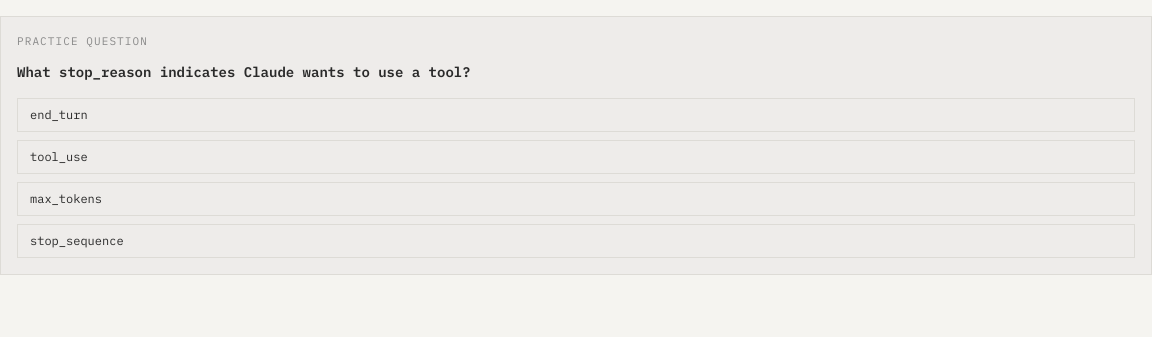
Test: InlinePracticeQ › reveals explanation after selecting correct answer
This screenshot has width=1152, height=337.
Click the button "tool_use" at x=59, y=156, box [17,140,1135,174]
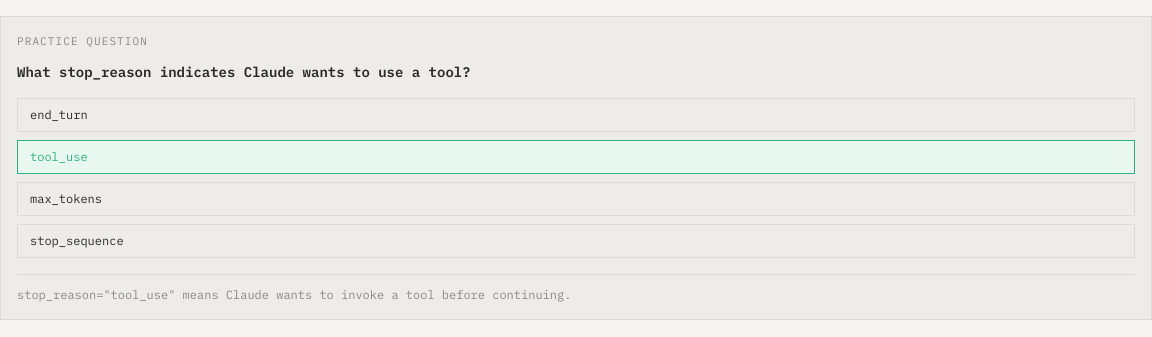
Result: the text "stop_reason=\"tool_use\" means Claude wants to invoke a tool before continuing." is shown at [17,274,1135,302]
